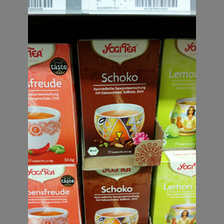tea: (76, 36, 163, 158), (29, 41, 78, 163), (82, 163, 152, 224), (158, 38, 195, 150), (149, 152, 196, 224), (29, 164, 80, 224)
